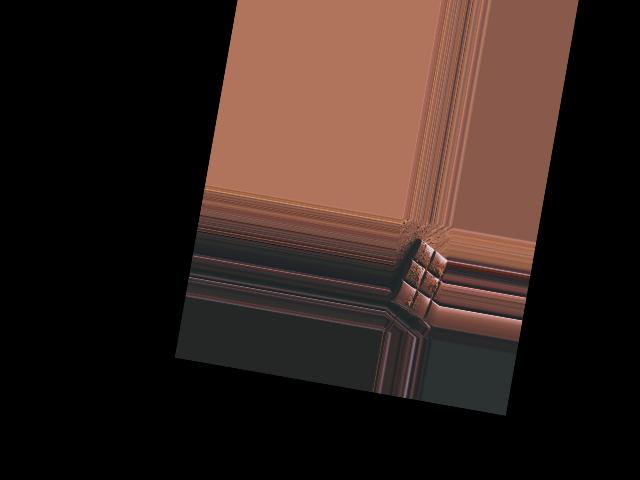chocolate: (388, 232, 450, 327)
